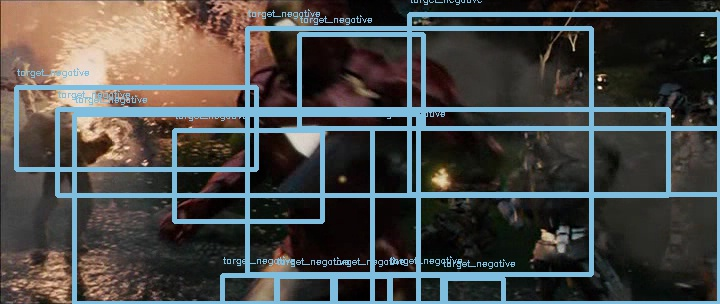person: (263, 1, 339, 77), (262, 1, 338, 77), (264, 1, 340, 77), (263, 0, 339, 76), (263, 2, 339, 78)
target_negative: (176, 121, 696, 288), (126, 142, 613, 264), (142, 147, 168, 257), (610, 207, 707, 222), (676, 190, 695, 252), (655, 262, 685, 299)
